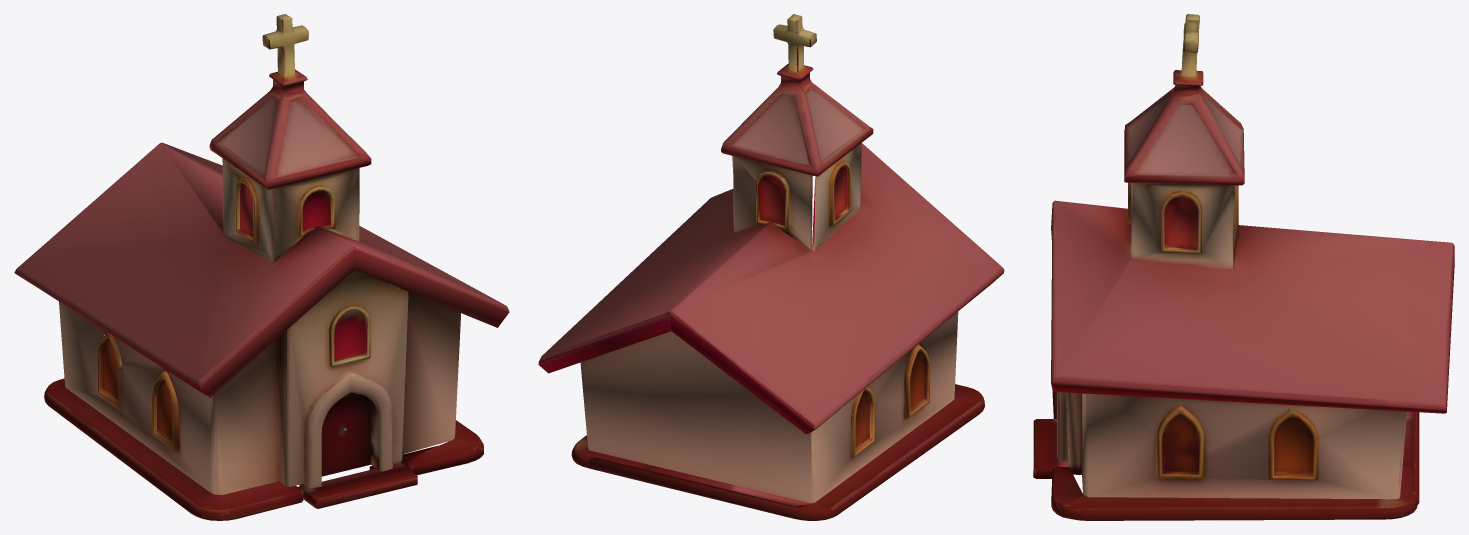
File: gereja_1.glb
3 views of the same model, side by side, from view 1: azimuth 30°, elevation 25°; view 2: azimuth 150°, elevation 25°; view 3: azimuth 270°, elevation 25° (orthographic). The views are drawn at different scales.
Parts seen in each view (by area): view 1: tripo_node_458c0969; view 2: tripo_node_458c0969; view 3: tripo_node_458c0969.
Boxes of the visible parts, x1=… form: tripo_node_458c0969: x1=14, y1=14, x2=509, y2=520; tripo_node_458c0969: x1=538, y1=14, x2=1004, y2=520; tripo_node_458c0969: x1=1033, y1=14, x2=1454, y2=520.
Bounding box in the file's own units: 0.7615 × 1 × 0.8787.
Materials: 1 (1 with a texture image).
